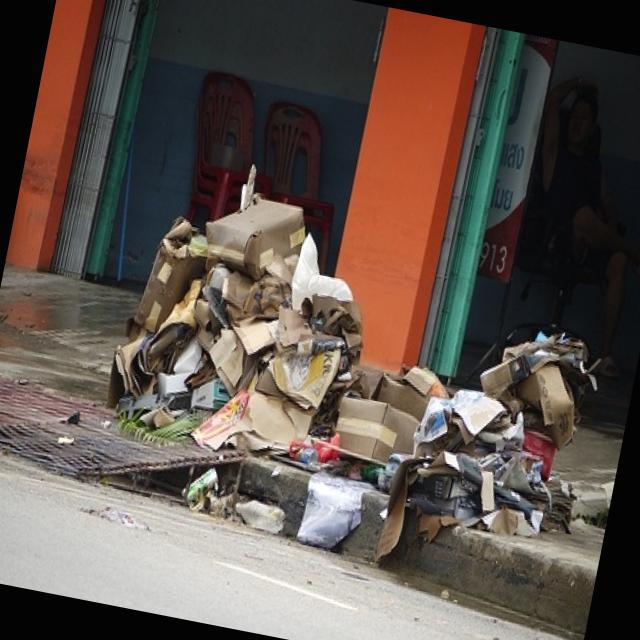garbage: (108, 166, 596, 570)
